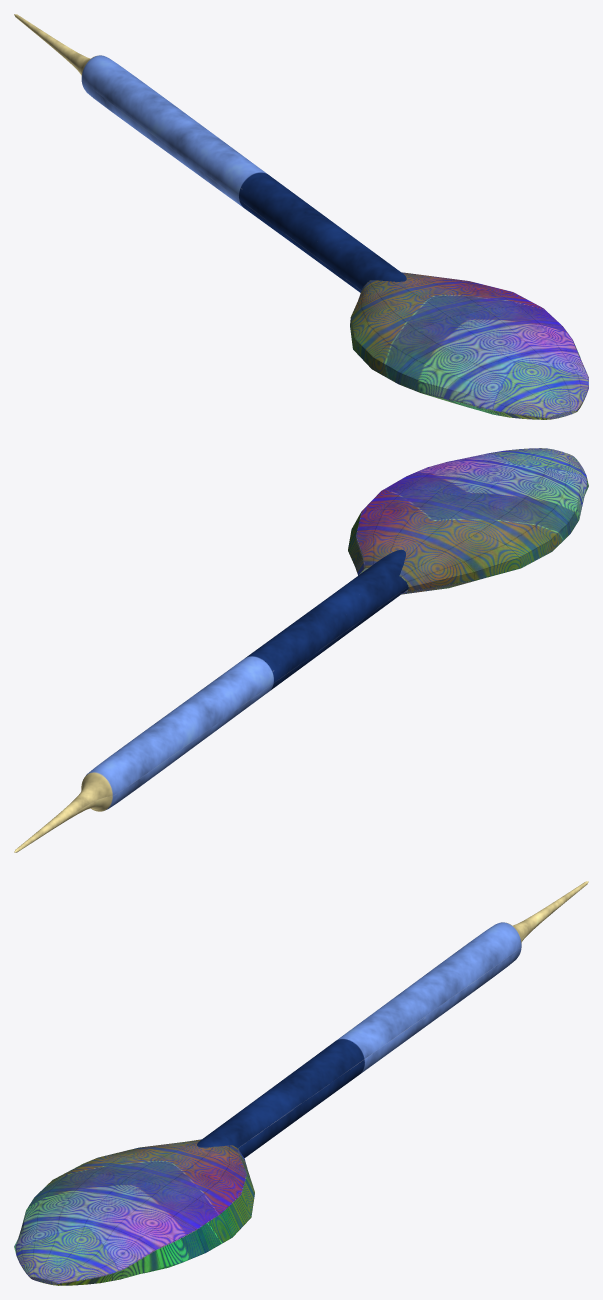
Rendered from Arrow.fbx.
The picture shows the model from 3 angles, top to bottom: view 1: azimuth 30°, elevation 25°; view 2: azimuth 150°, elevation 25°; view 3: azimuth 330°, elevation 25°; orthographic projection.
Parts seen in each view (by area): view 1: Arrow; view 2: Arrow; view 3: Arrow.
Part boxes in pixels (x1,y1,x2,y2): Arrow: (14,14,588,419); Arrow: (14,448,588,852); Arrow: (14,881,588,1285).
Size of the model in its own units: 622 by 186 by 3240.
1 material, 1 textured.
